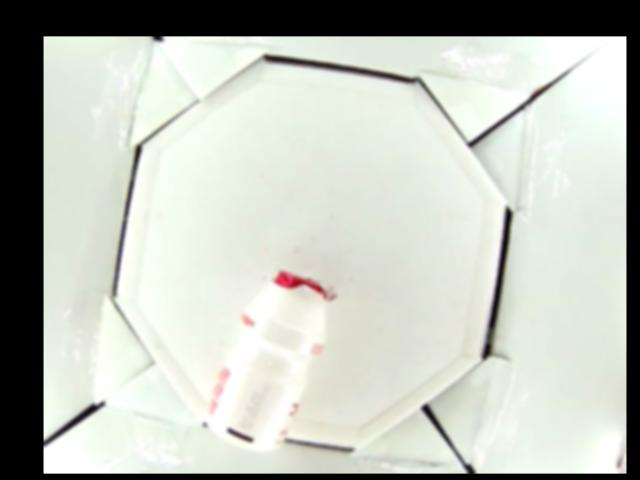Bottle: (201, 271, 335, 450)
